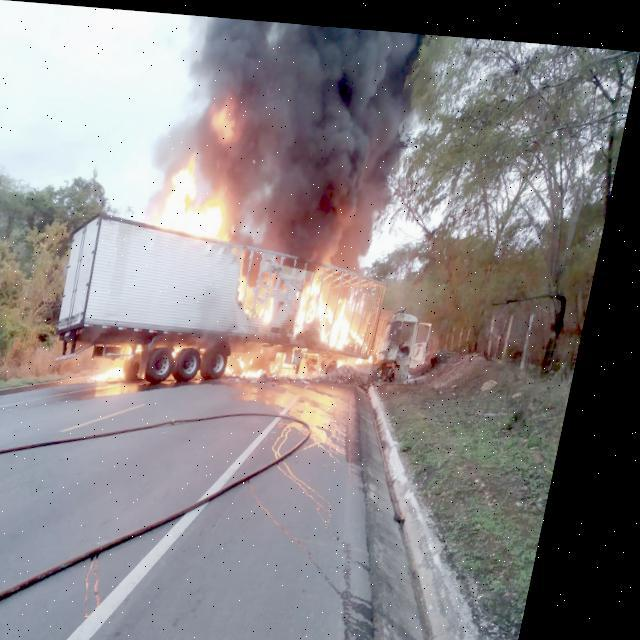Fire: (156, 148, 248, 239), (305, 269, 393, 344), (241, 272, 293, 318), (212, 100, 244, 137), (240, 352, 281, 376), (282, 345, 314, 370), (349, 344, 388, 364), (108, 362, 142, 378)
